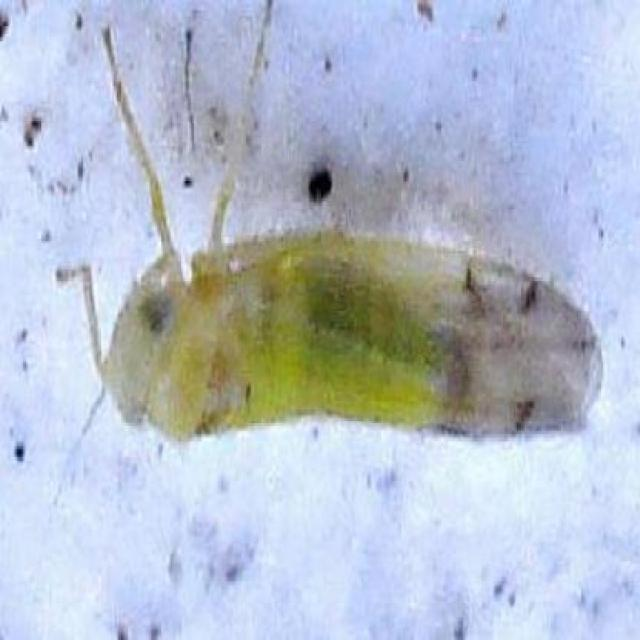green-leafhopper: (75, 158, 600, 450)
